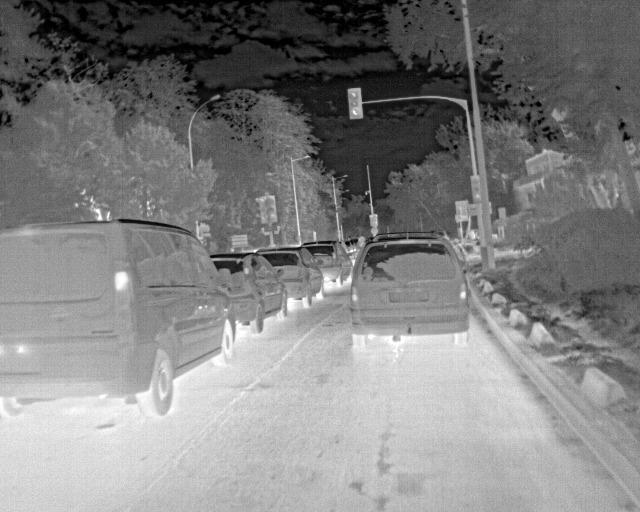car: (0, 218, 237, 418), (349, 237, 470, 347), (210, 252, 288, 334), (256, 245, 325, 308), (301, 240, 353, 286), (372, 231, 441, 242), (344, 237, 366, 266)
light: (348, 88, 363, 119), (264, 196, 277, 223), (470, 175, 482, 203), (254, 197, 264, 223), (458, 209, 461, 220)
sign: (369, 214, 378, 227), (264, 225, 277, 231), (231, 241, 248, 245), (370, 227, 378, 235), (231, 234, 247, 238), (231, 244, 248, 247), (231, 238, 247, 241)
